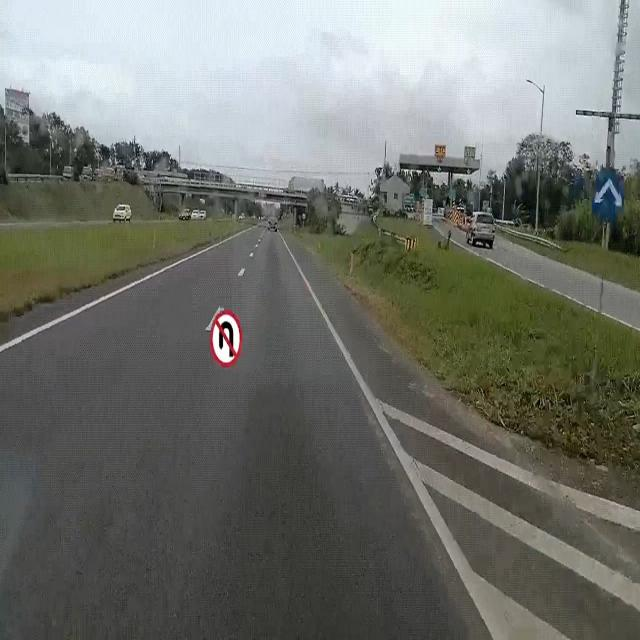Demi-Tour-Interdit: (209, 306, 246, 374)
